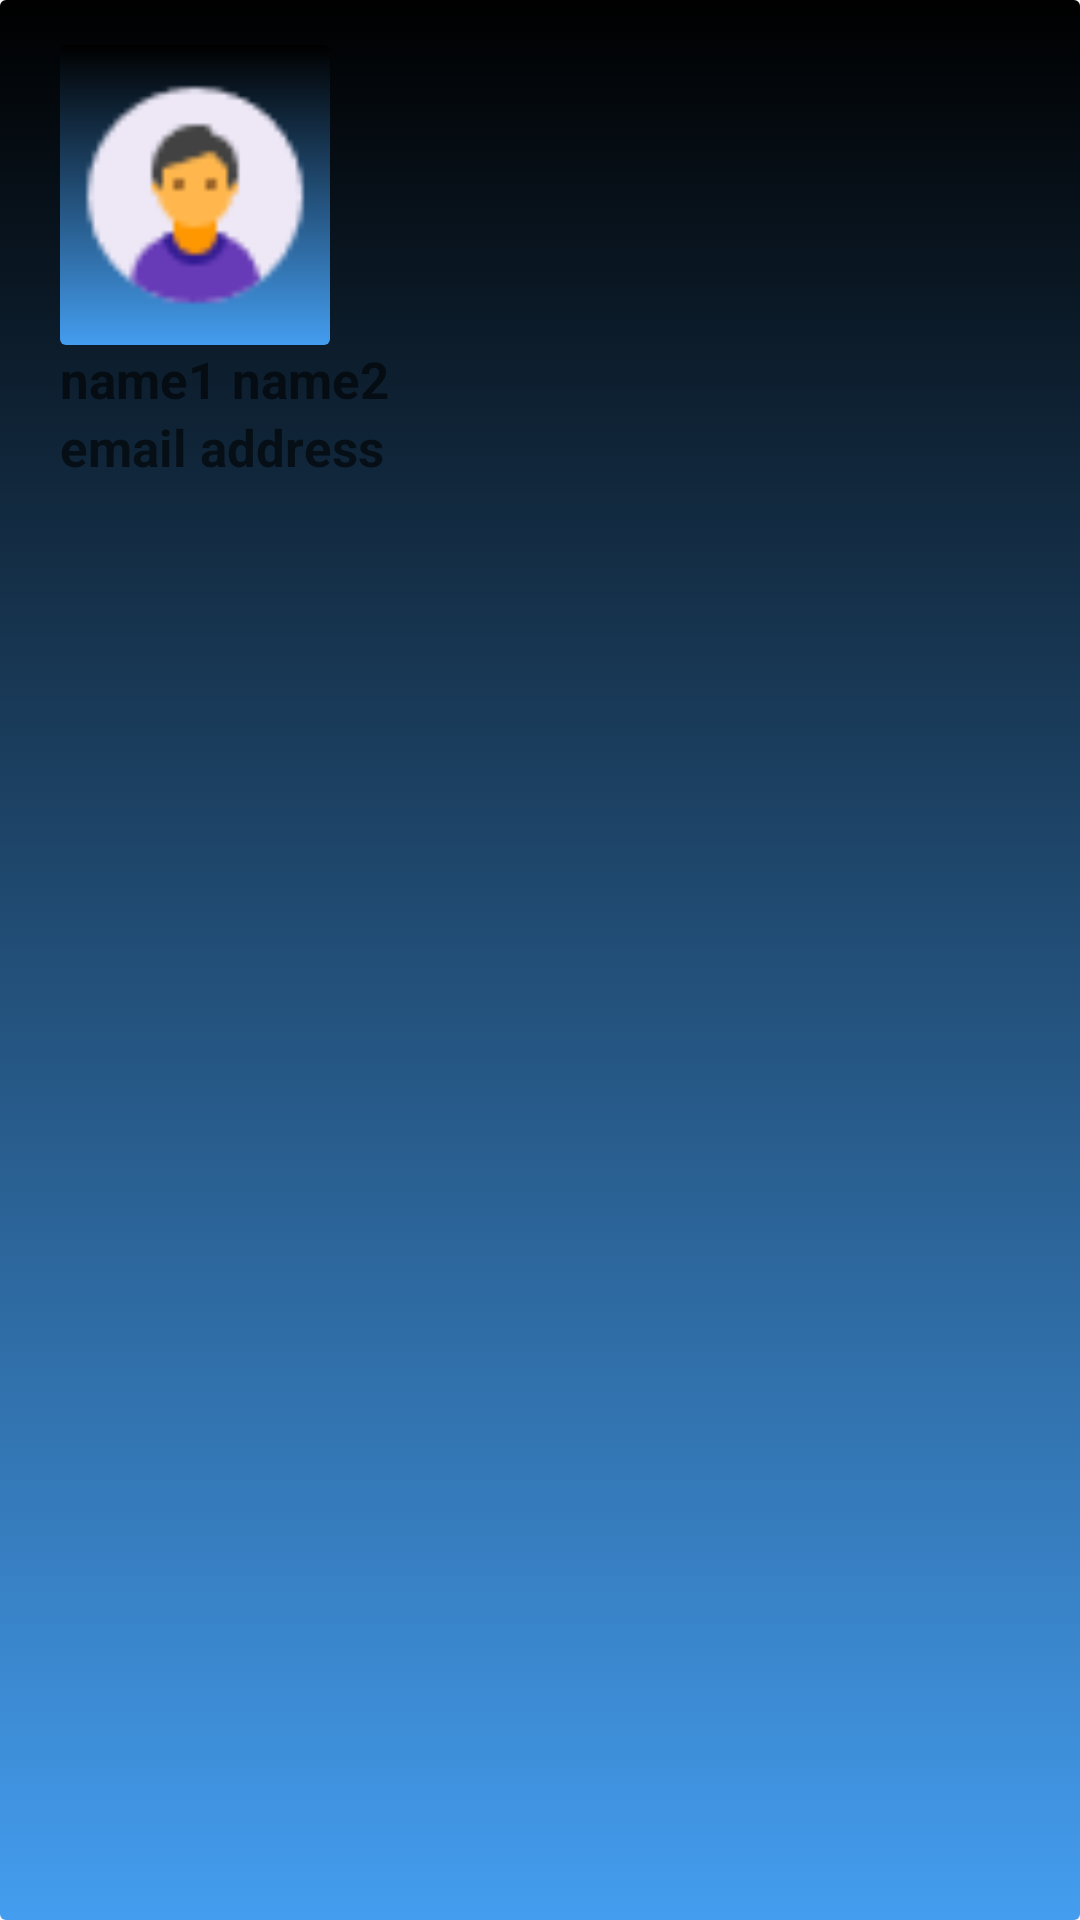

Named icons in this screenshot (1080*1920) and their centers, [x,y]:
circled user: [195,195]
